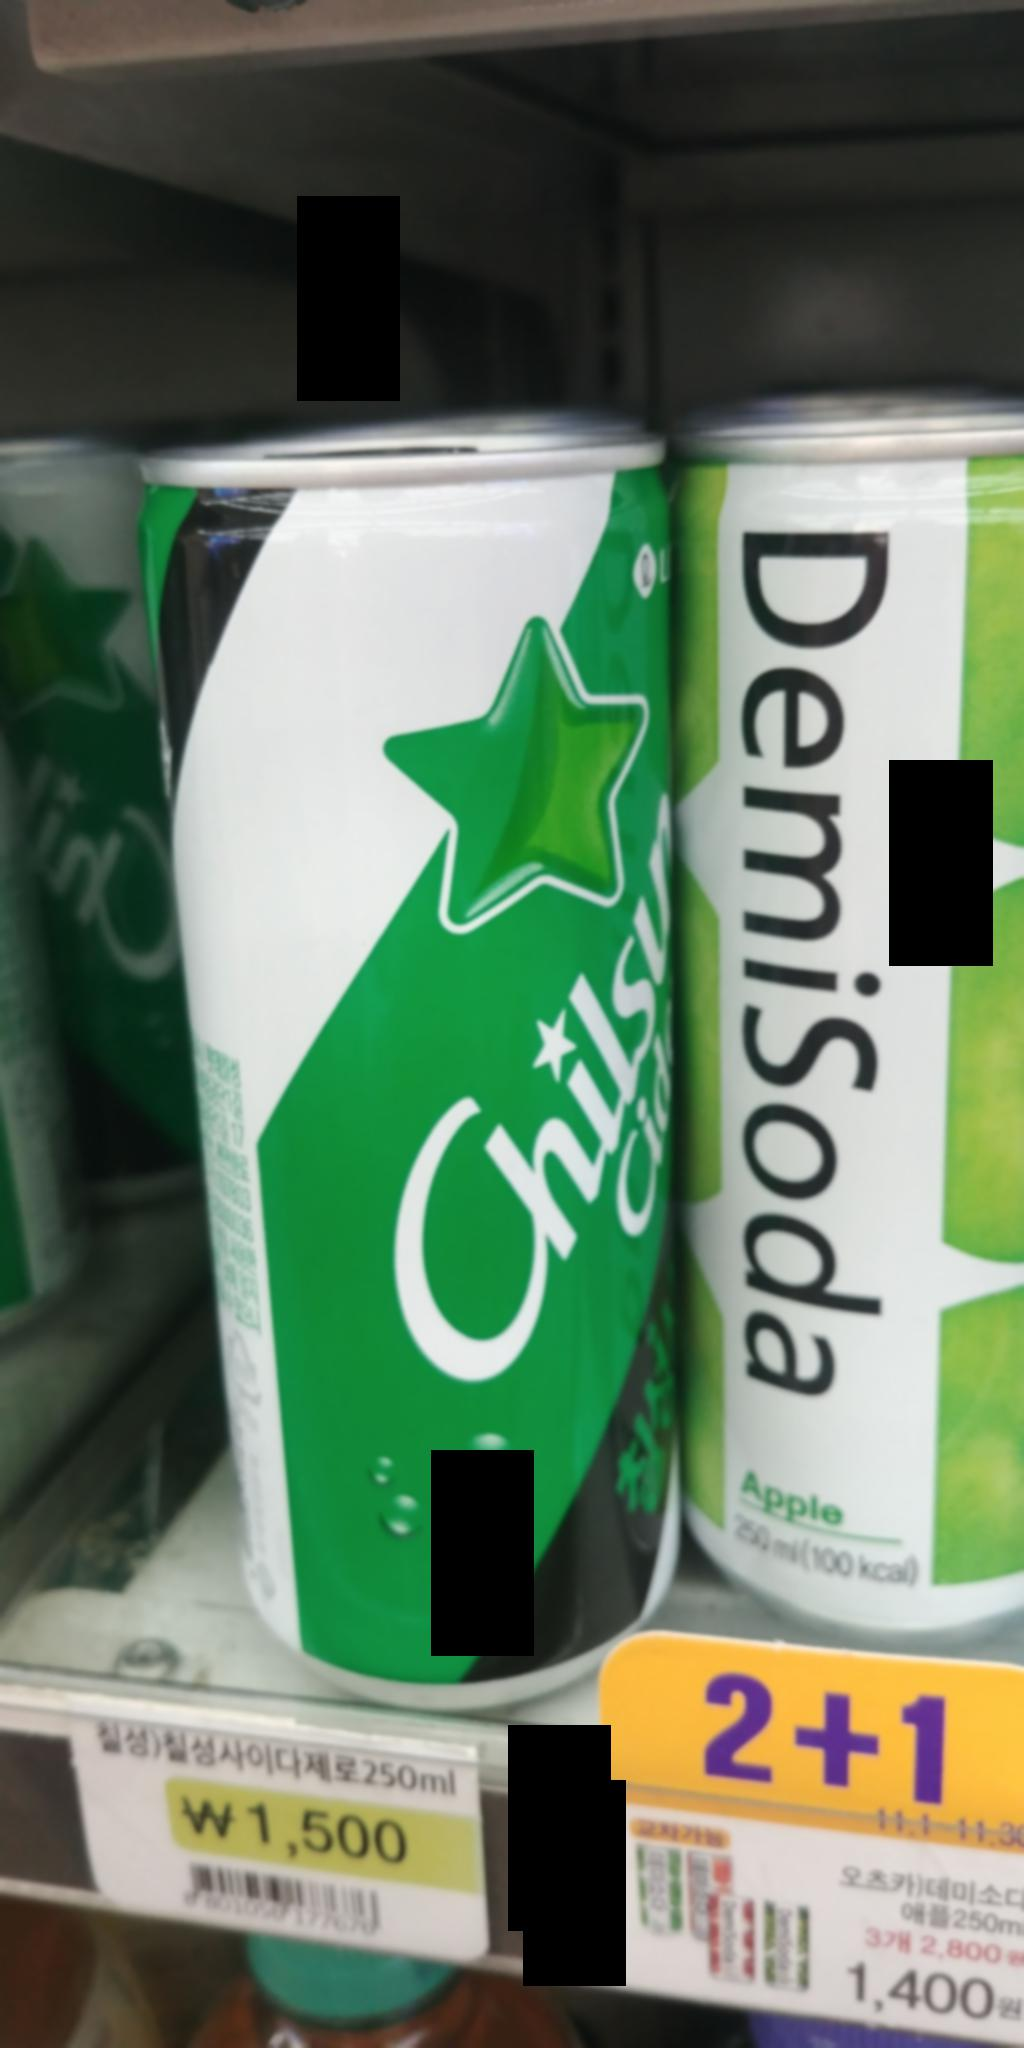chilsungcider_zero: (98, 418, 704, 1718)
